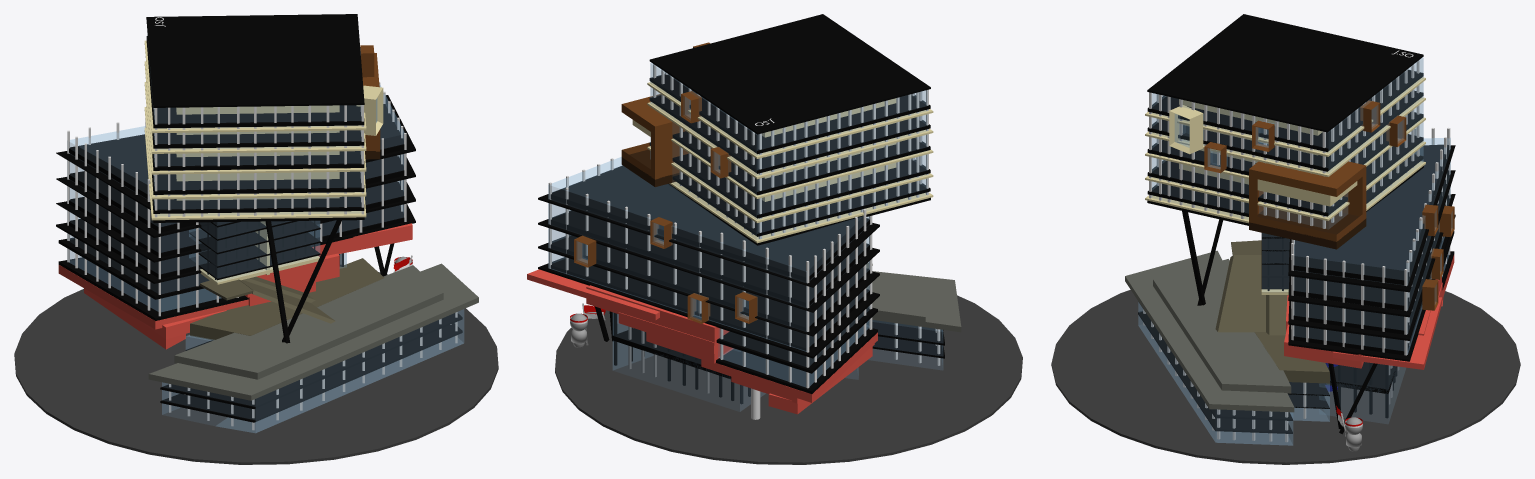
File: newcastle.glb
3 views of the same model, side by side, from view 1: azimuth 30°, elevation 25°; view 2: azimuth 150°, elevation 25°; view 3: azimuth 270°, elevation 25° (orthographic). The views are drawn at different scales.
Visible parts, largest first — view 1: Cylinder.002, Cube.006, Cube.068, Cube.201, Cube.237, Cube.088, Cube.200, Cube.168, Cube.238, Cube.198, Cube.170, Cube.084 (+38 smaller); view 2: Cylinder.002, Cube.088, Cube.068, Cube.006, Cube.084, Cube.085, Cube.197, Cube.086, Cube.087, Cube.005, Cube.002, Cube.004 (+37 smaller); view 3: Cylinder.002, Cube.006, Cube.068, Cube.088, Cube.084, Cube.201, Cube.200, Cube.237, Cube.063, Cube.202, Cube.197, Cube.005 (+36 smaller).
Boxes of the visible parts, x1,y1,x2,y2 form: Cylinder.002: (14, 265, 498, 464); Cube.006: (146, 14, 364, 107); Cube.068: (153, 105, 361, 215); Cube.201: (174, 265, 443, 379); Cube.237: (162, 309, 463, 432); Cube.088: (69, 85, 404, 273); Cube.200: (148, 263, 478, 400); Cube.168: (189, 221, 319, 282); Cube.238: (190, 258, 384, 340); Cube.198: (160, 323, 462, 422); Cube.170: (176, 105, 339, 200); Cube.084: (69, 104, 404, 198); Cylinder.002: (555, 295, 1022, 464); Cube.088: (548, 157, 869, 351); Cube.068: (650, 63, 927, 239); Cube.006: (649, 14, 930, 134); Cube.084: (550, 165, 869, 281); Cube.085: (550, 210, 869, 306); Cube.197: (613, 312, 765, 411); Cube.086: (550, 235, 869, 330); Cube.087: (550, 258, 869, 351); Cube.005: (649, 74, 930, 154); Cube.002: (649, 142, 930, 218); Cube.004: (649, 95, 930, 173); Cylinder.002: (1051, 290, 1520, 464); Cube.006: (1147, 14, 1423, 132); Cube.068: (1152, 57, 1423, 228); Cube.088: (1294, 138, 1450, 354); Cube.084: (1293, 144, 1449, 284); Cube.201: (1153, 259, 1291, 393); Cube.200: (1125, 250, 1294, 412); Cube.237: (1138, 302, 1292, 445); Cube.063: (1249, 161, 1366, 241); Cube.202: (1215, 255, 1265, 332); Cube.197: (1319, 362, 1405, 423); Cube.005: (1147, 69, 1423, 151).
Size of the model in its own units: 38.78 by 26.98 by 38.78.
